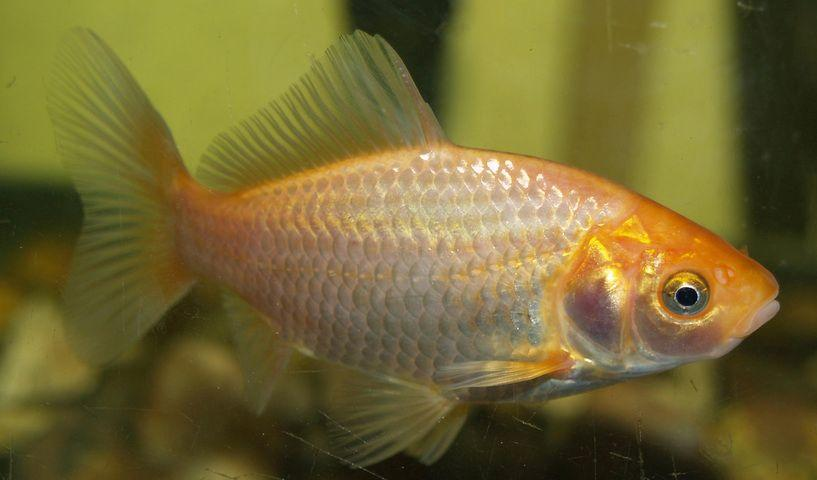Gold Fish: (47, 23, 781, 461)
